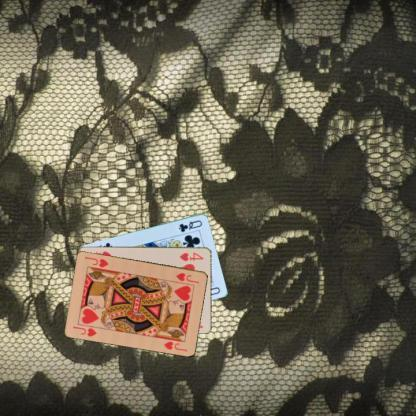4h: (178, 250, 204, 262)
Jh: (173, 270, 200, 285), (70, 323, 98, 337)
Qc: (176, 217, 204, 233)
